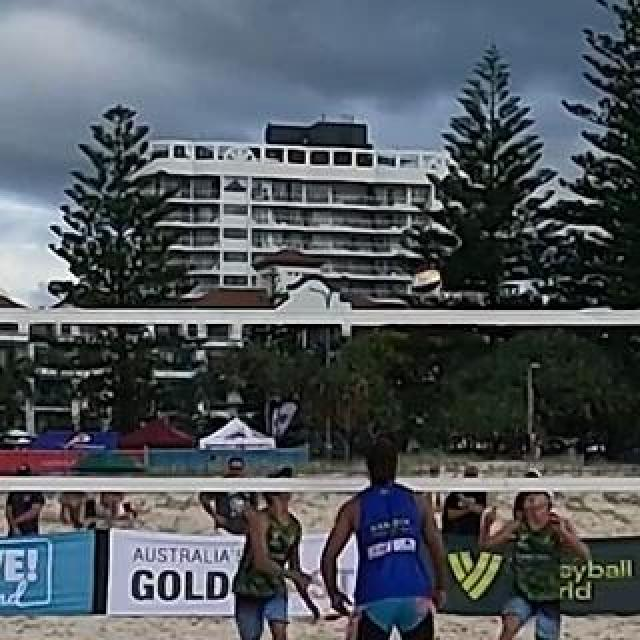volleyball: (411, 267, 443, 297)
